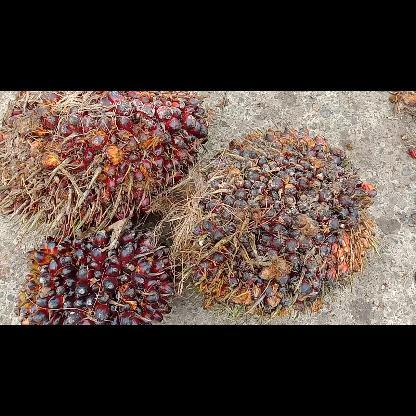Kurang masak: (184, 127, 378, 311), (14, 223, 178, 324)
TBS masak: (0, 91, 209, 234)
